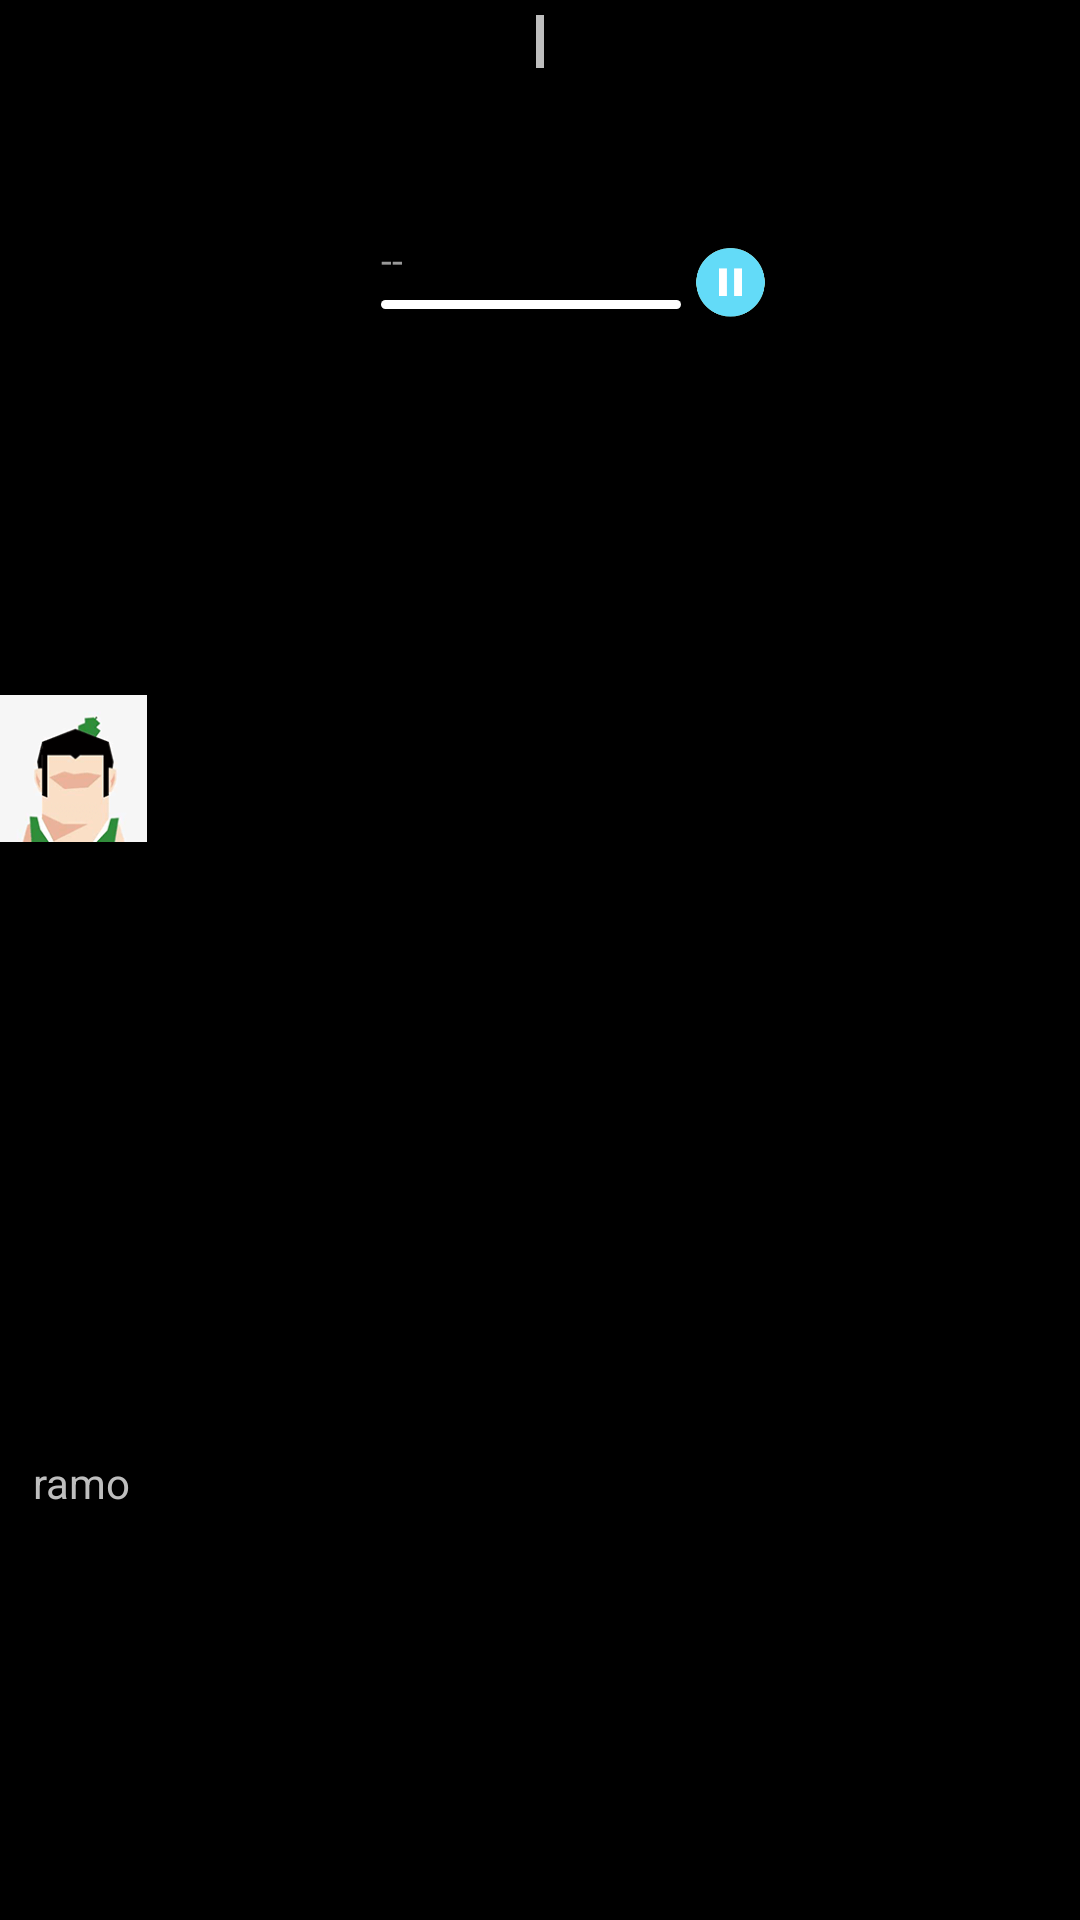

Icon bounding boxes for this 1080*1920 phone screenshot, format (x1, y1, x2, y2):
download pause: (696, 248, 765, 317)
